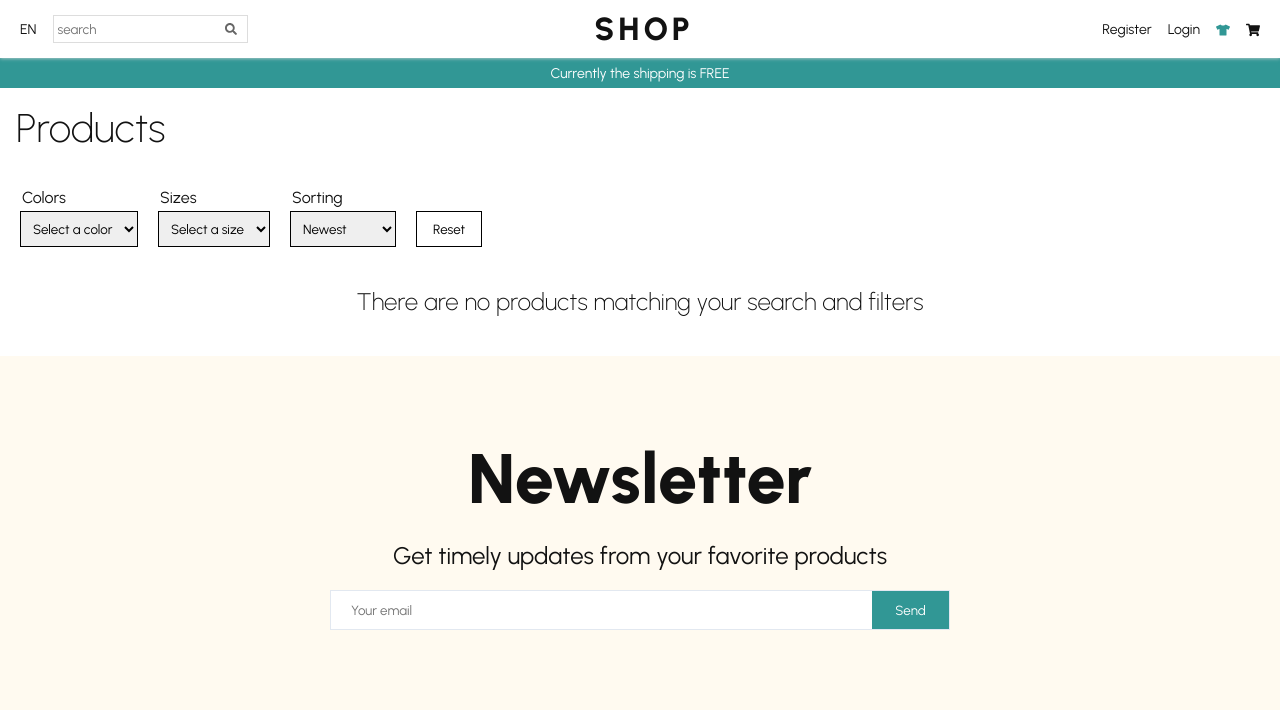
Scenario: register is working
The image size is (1280, 711).
Click the link "Register" at [1127, 29], box [1102, 20, 1152, 38]
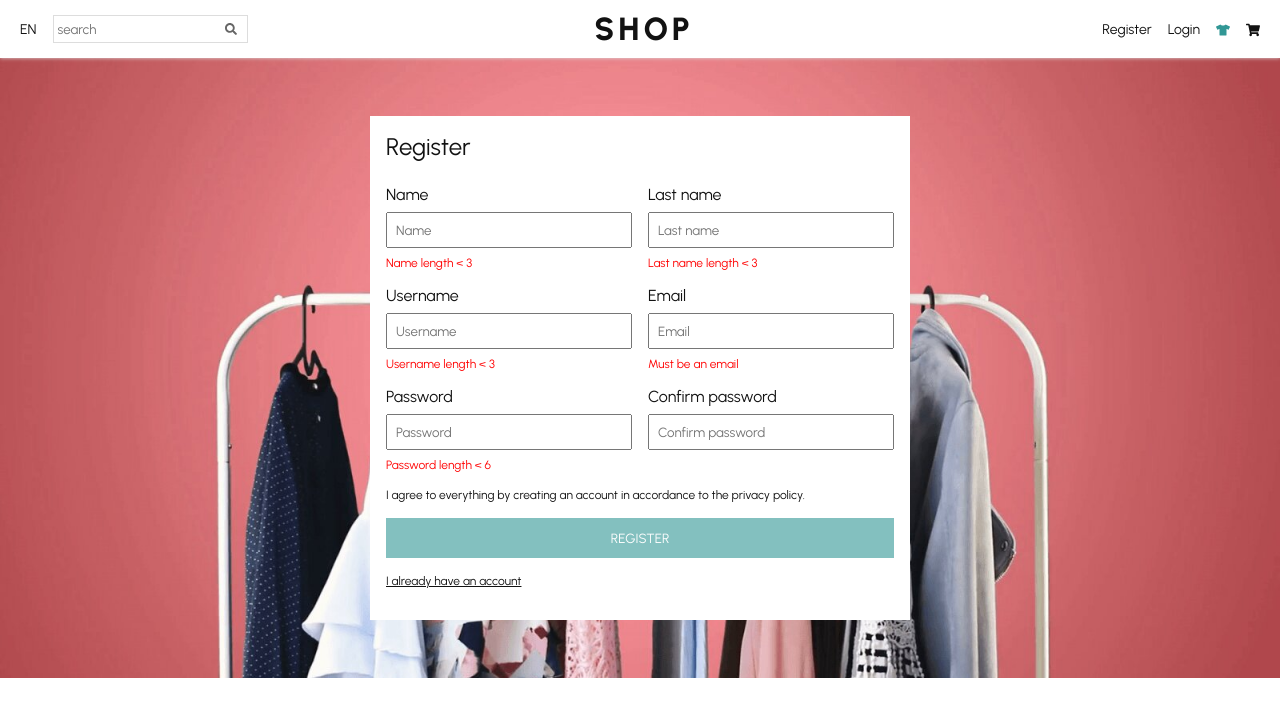
Now the heading "Register" is shown, box [386, 132, 471, 161]
